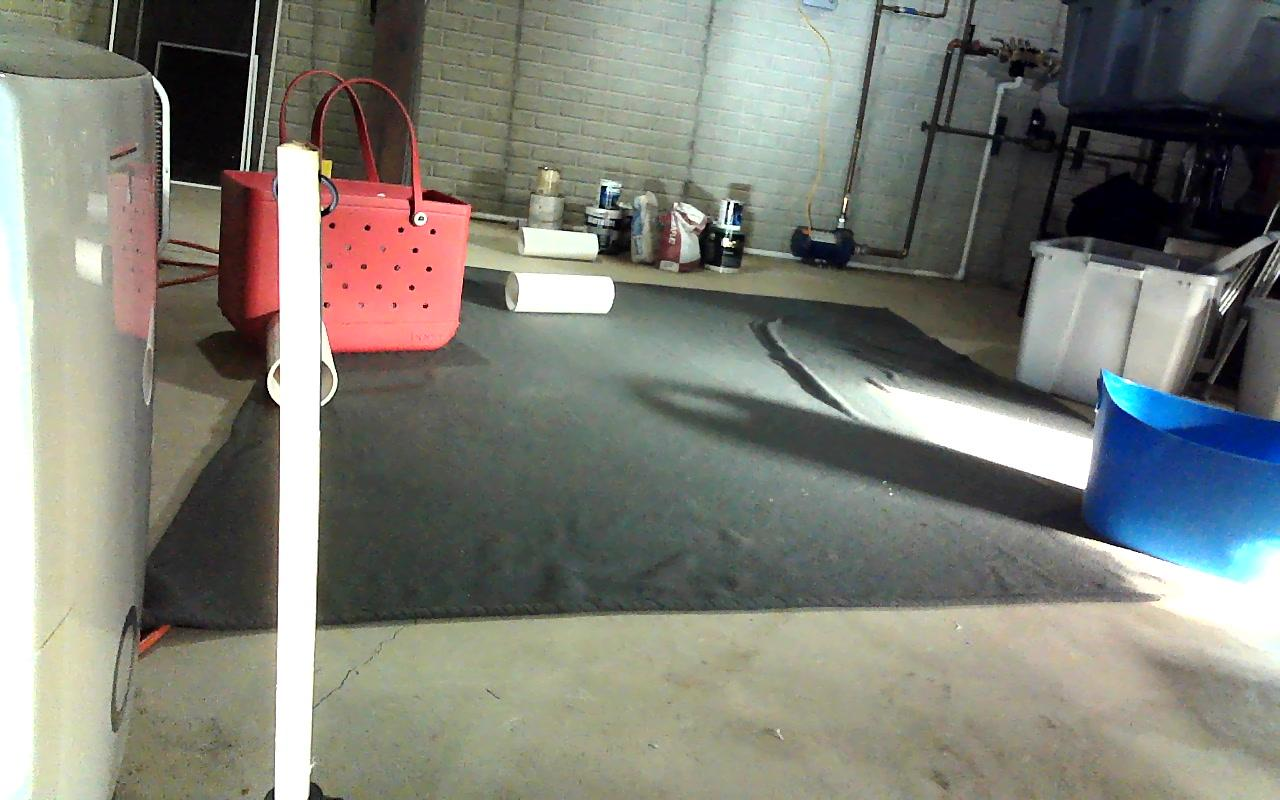coral: (267, 310, 336, 407), (507, 270, 612, 313), (520, 226, 598, 258)
